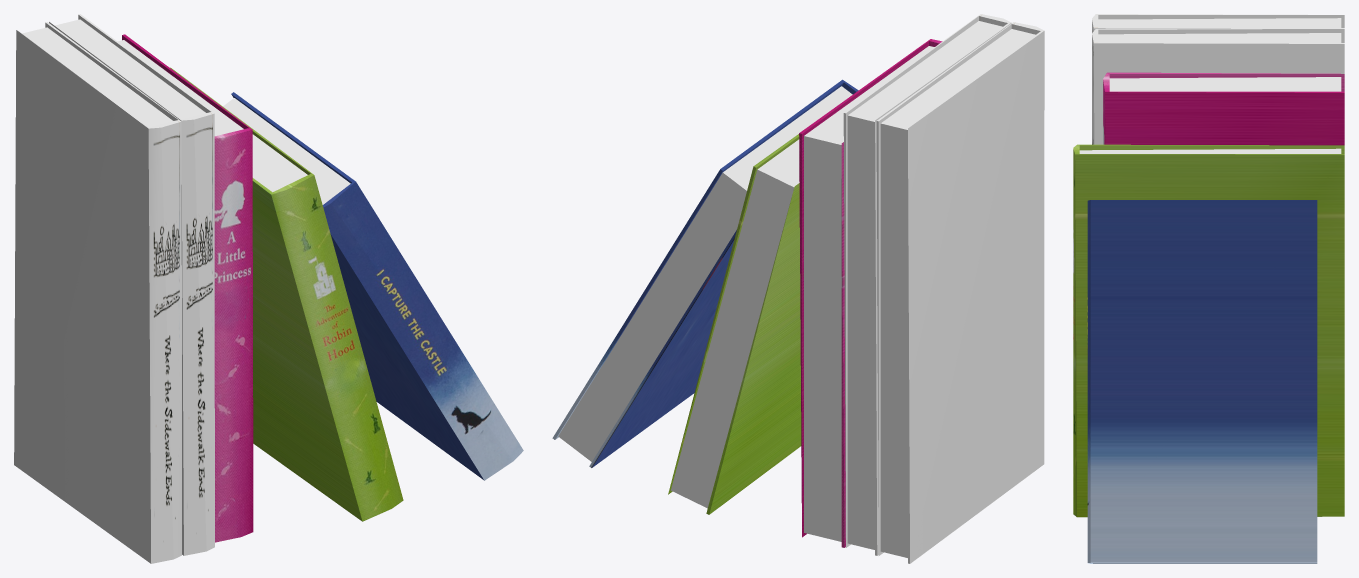
File: Books 3.FBX
3 views of the same model, side by side, from view 1: azimuth 30°, elevation 25°; view 2: azimuth 150°, elevation 25°; view 3: azimuth 270°, elevation 25° (orthographic). The views are drawn at different scales.
Visible parts, largest first — view 1: books 3; view 2: books 3; view 3: books 3.
Part boxes in pixels (box(x1,y1,x2,y2)): books 3: box(14, 14, 523, 563); books 3: box(552, 14, 1044, 563); books 3: box(1073, 14, 1344, 563).
Size of the model in its own units: 24.74 by 27.6 by 16.88.
1 material, 1 textured.
